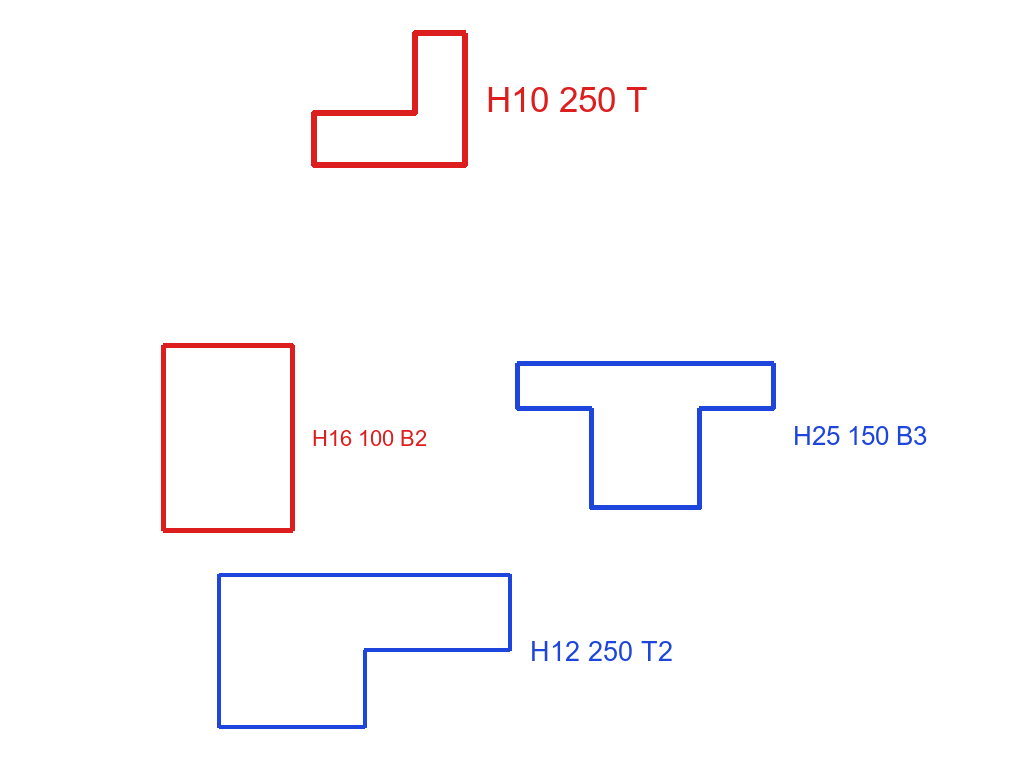shape: (216, 570, 514, 731), (513, 359, 778, 512), (159, 341, 297, 535), (309, 28, 471, 170)
text: (484, 85, 649, 114), (528, 639, 675, 663), (791, 424, 929, 447), (310, 428, 429, 448)
